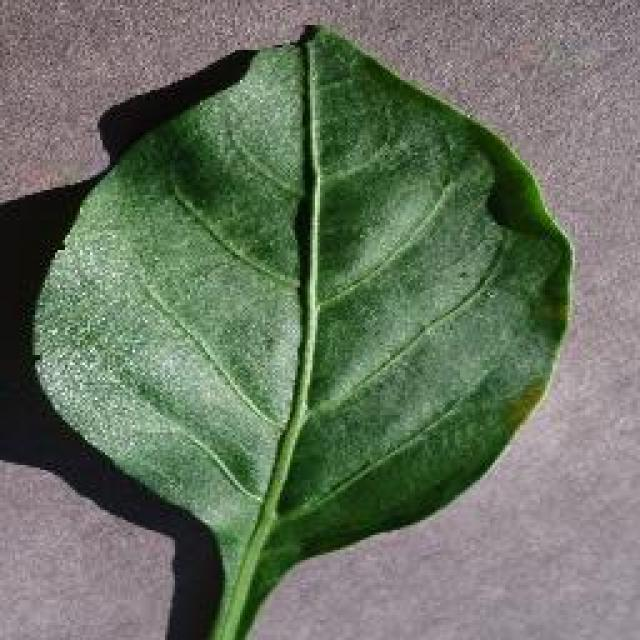Leaf: (39, 43, 598, 529)
